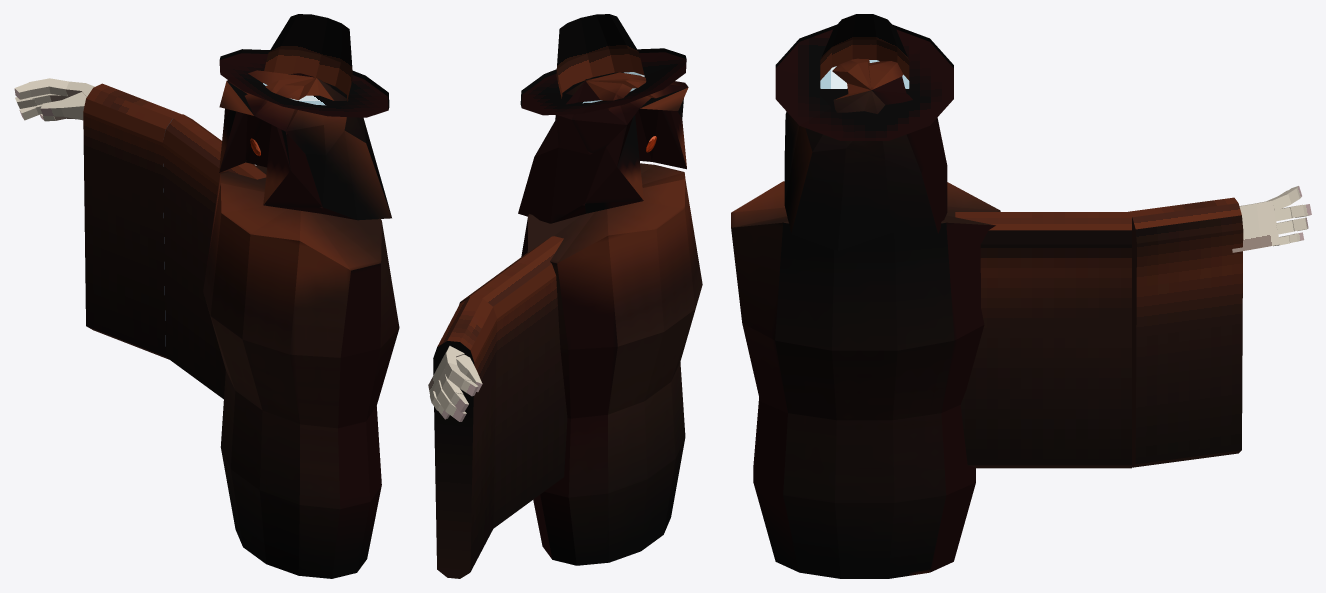
The model's file is keeper.fbx.
The picture shows the model from 3 angles, left to right: view 1: azimuth 30°, elevation 25°; view 2: azimuth 150°, elevation 25°; view 3: azimuth 270°, elevation 25°; orthographic projection. The views are drawn at different scales.
Visible parts, largest first — view 1: body, cylinder_3, hood, cylinder_2, cylinder_1, cylinder, cuboid_12; view 2: body, cylinder_2, hood, cylinder_3, cylinder_1, cylinder, palm; view 3: body, cylinder_2, cylinder_3, hood, cylinder, cylinder_1, palm.
Part boxes in pixels (<box>): body: <box>203,165,399,578</box>; cylinder_3: <box>83,83,181,359</box>; hood: <box>219,70,391,220</box>; cylinder_2: <box>163,114,266,399</box>; cylinder_1: <box>263,14,352,105</box>; cylinder: <box>219,49,389,117</box>; cuboid_12: <box>61,92,86,120</box>; body: <box>521,163,702,565</box>; cylinder_2: <box>459,236,567,528</box>; hood: <box>518,72,688,223</box>; cylinder_3: <box>433,297,496,578</box>; cylinder_1: <box>556,14,644,103</box>; cylinder: <box>520,48,686,115</box>; palm: <box>428,346,464,395</box>; body: <box>731,181,1000,578</box>; cylinder_2: <box>955,212,1131,468</box>; cylinder_3: <box>1128,197,1243,467</box>; hood: <box>784,58,947,250</box>; cylinder: <box>775,24,953,140</box>; cylinder_1: <box>820,14,909,115</box>; palm: <box>1232,200,1279,252</box>.
Size of the model in its own units: 51.31 by 167 by 163.
Materials: 4 (4 with a texture image).
